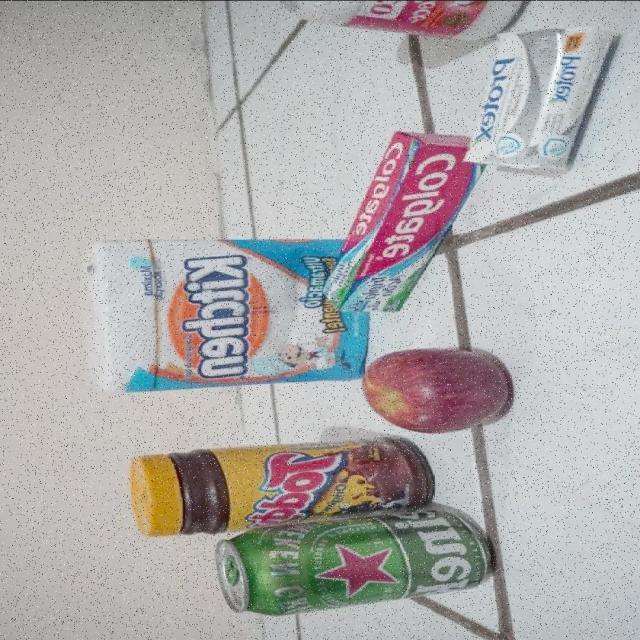Apple: (357, 340, 522, 432)
BeerCan: (218, 518, 491, 614)
ChocolatePowder: (132, 435, 434, 517)
CoconutMilk: (194, 0, 518, 28)
Napkin: (83, 238, 314, 388)
Soap: (464, 29, 606, 170)
Toothpaste: (325, 131, 440, 309)
